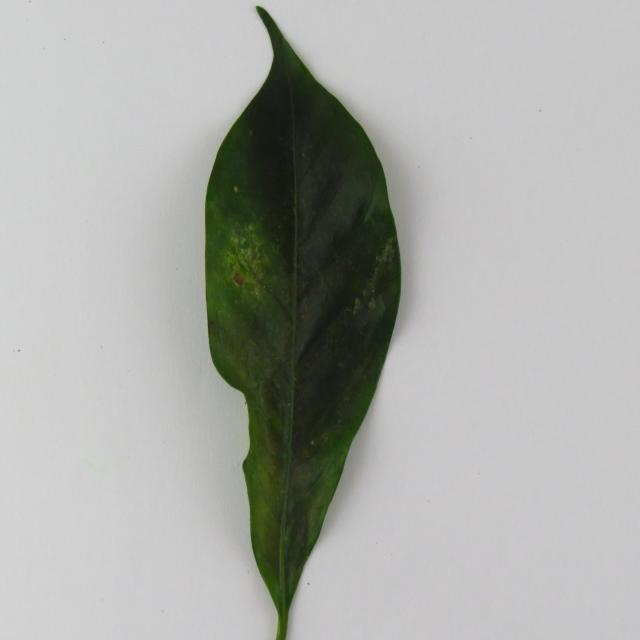DeficienciaNutricional-Calcio: (205, 7, 401, 638)
